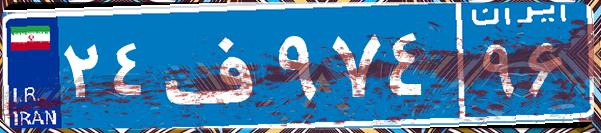2: (57, 26, 110, 107)
4: (385, 28, 445, 110), (110, 28, 158, 105)
6: (525, 38, 570, 115)
7: (330, 28, 385, 110)
9: (273, 28, 330, 110), (475, 38, 525, 113)
ف: (158, 15, 273, 115)
